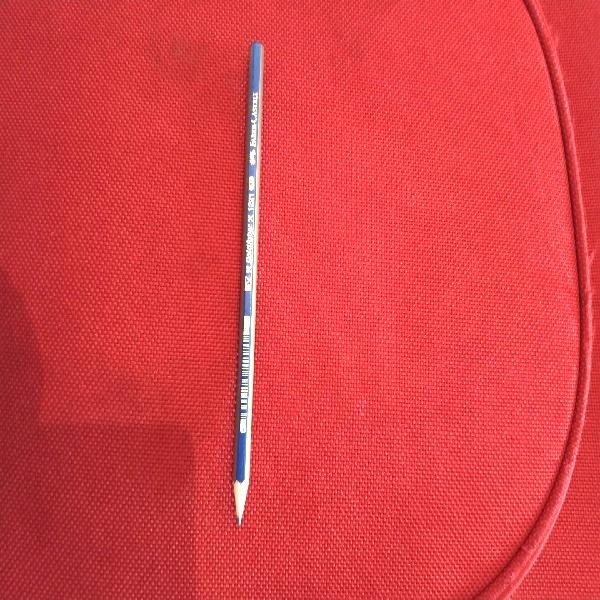pencil: (225, 38, 267, 530)
